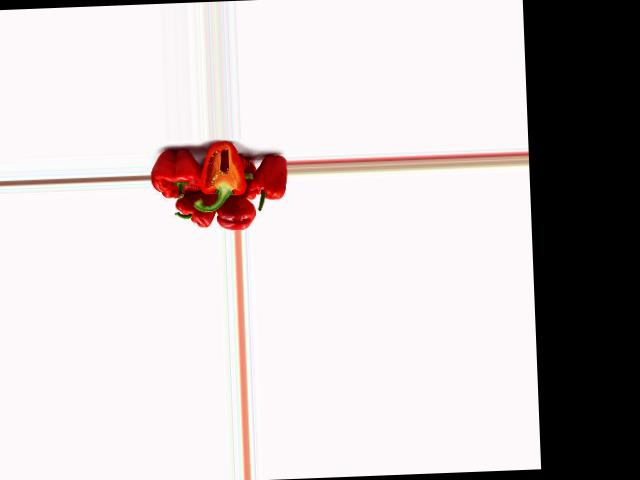bell_pepper: (173, 192, 218, 228)
